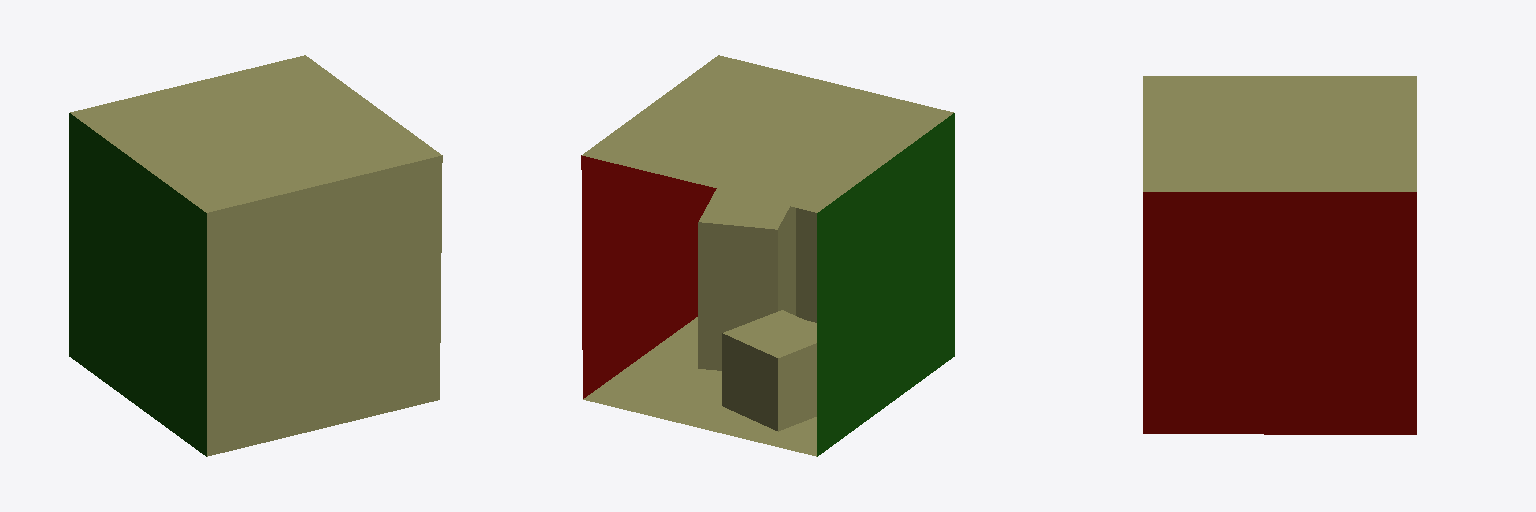
File: cornell_box_scene_high.obj
3 renders of one model, left to right at view 1: azimuth 30°, elevation 25°; view 2: azimuth 150°, elevation 25°; view 3: azimuth 270°, elevation 25°, orthographic.
Visible parts, largest first — view 1: WhiteMaterial_WhiteMaterial_WhiteMaterial, WhiteMaterial_WhiteMaterial_GreenMaterial; view 2: WhiteMaterial_WhiteMaterial_WhiteMaterial, WhiteMaterial_WhiteMaterial_GreenMaterial, WhiteMaterial_WhiteMaterial_RedMaterial; view 3: WhiteMaterial_WhiteMaterial_RedMaterial, WhiteMaterial_WhiteMaterial_WhiteMaterial.
Boxes of the visible parts, x1=… form: WhiteMaterial_WhiteMaterial_WhiteMaterial: x1=70, y1=55, x2=442, y2=456; WhiteMaterial_WhiteMaterial_GreenMaterial: x1=69, y1=113, x2=206, y2=456; WhiteMaterial_WhiteMaterial_WhiteMaterial: x1=582, y1=55, x2=953, y2=456; WhiteMaterial_WhiteMaterial_GreenMaterial: x1=817, y1=113, x2=954, y2=456; WhiteMaterial_WhiteMaterial_RedMaterial: x1=581, y1=155, x2=716, y2=398; WhiteMaterial_WhiteMaterial_RedMaterial: x1=1143, y1=192, x2=1416, y2=434; WhiteMaterial_WhiteMaterial_WhiteMaterial: x1=1143, y1=76, x2=1416, y2=191.
Bounding box in the file's own units: 2.01 × 1.98 × 2.02.